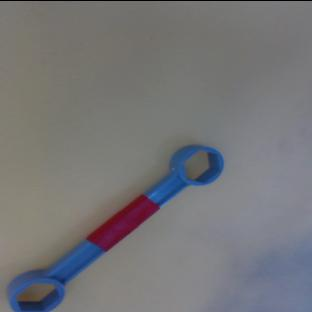part_3_good: (0, 129, 231, 312)
